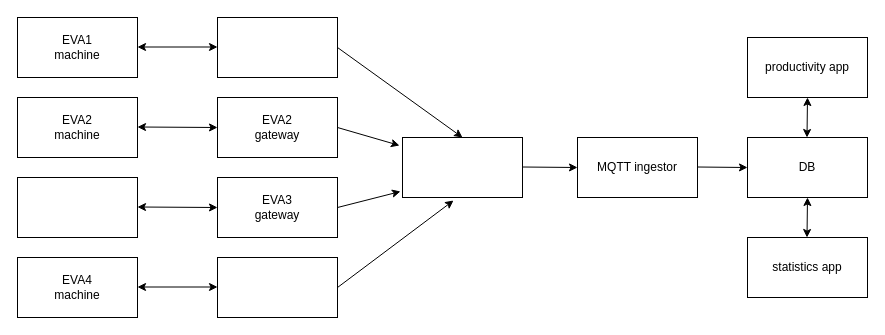
Image size: 885x335. Some labels were removed from this diagram. The centre of each missing label's shape, as x and y in pixels:
EVA1 gateway: (x=277, y=47)
EVA3 machine: (x=77, y=207)
EVA4 gateway: (x=277, y=287)
MQTT broker: (x=462, y=167)
